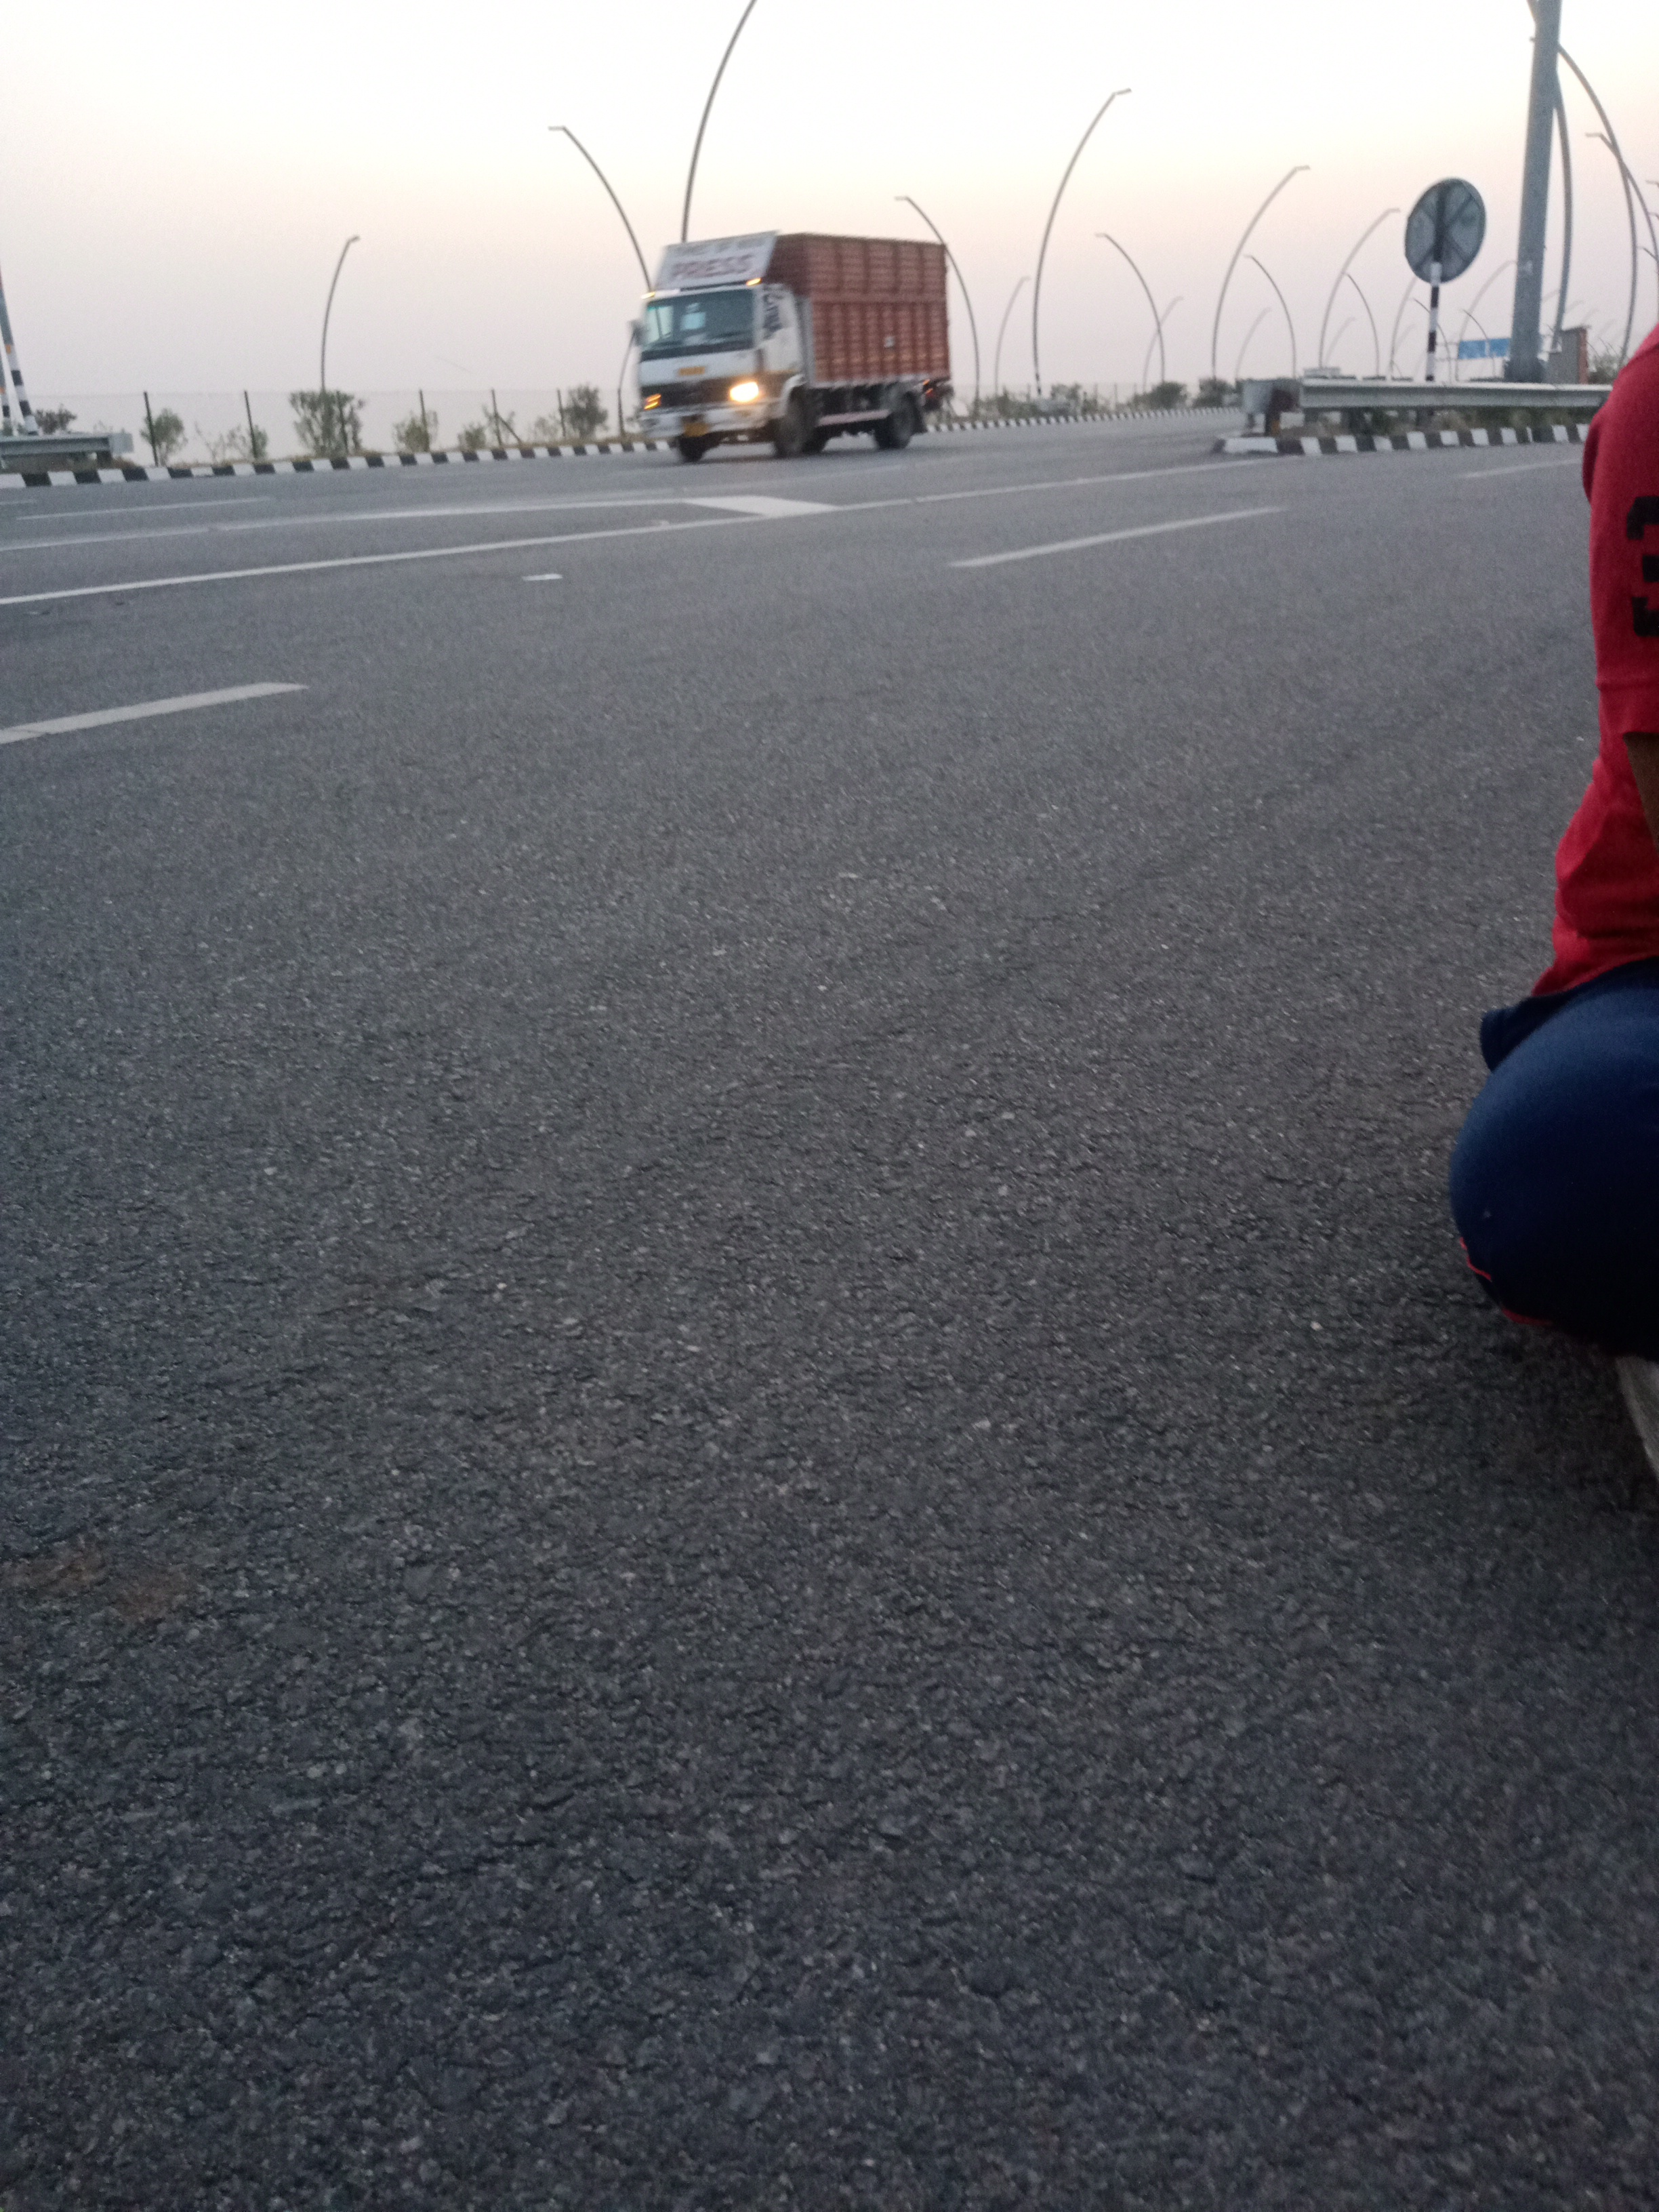truck: (626, 226, 951, 465)
